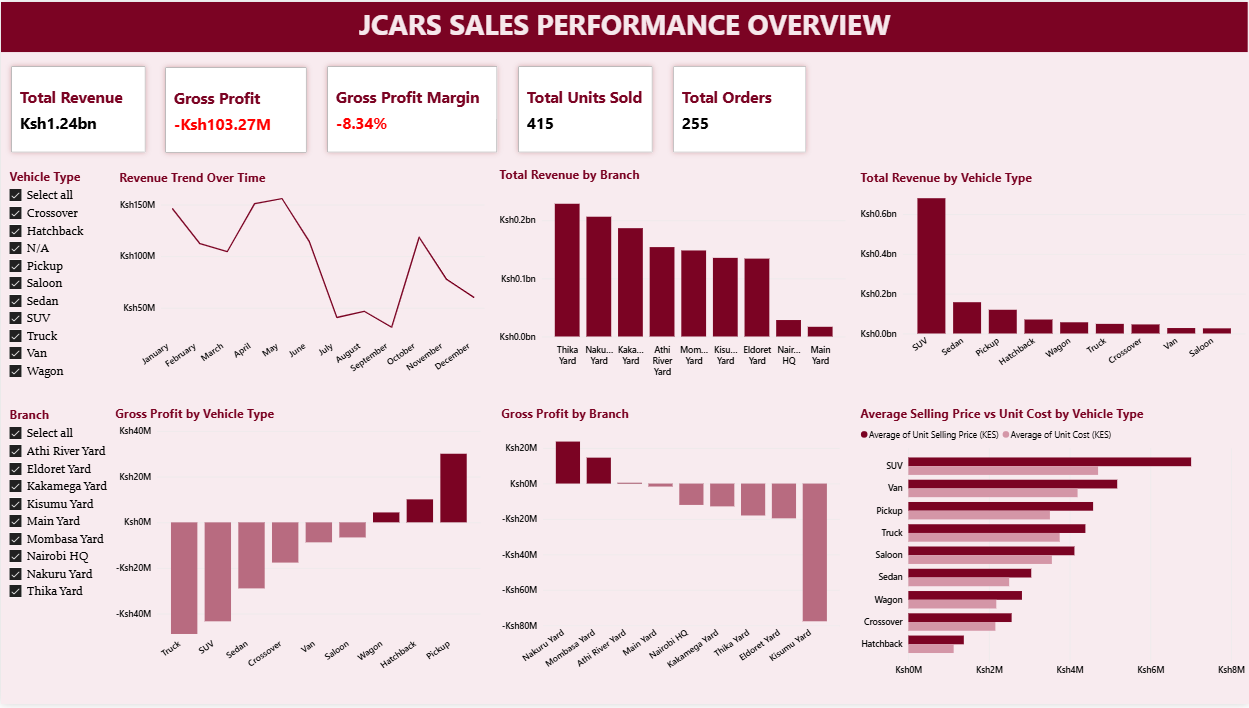

The page's visual inventory and layout, read from the dashboard file:
{"tool":"powerbi","page":{"name":"Dashboard","canvas":[1920,1080],"ordinal":0},"visuals":[{"type":"cardVisual","fields":{"Data":["Jcars_data_working.Total Revenue"]},"box":[-0.8,83.1,238.5,164.6],"z":0},{"type":"cardVisual","fields":{"Data":["Jcars_data_working.Total Units Sold"]},"box":[780,83.1,238.5,164.6],"z":1000},{"type":"cardVisual","fields":{"Data":["Jcars_data_working.Gross Profit"]},"box":[236.9,84.6,249.2,163.1],"z":2000},{"type":"cardVisual","fields":{"Data":["Jcars_data_working.Gross Profit Margin"]},"box":[486.2,83.1,293.8,164.6],"z":3000},{"type":"cardVisual","fields":{"Data":["Jcars_data_working.Total Orders"]},"box":[1018.5,83.1,236.9,164.6],"z":4000},{"type":"clusteredColumnChart","title":"Total Revenue by Branch","fields":{"Category":["Jcars_data_working.Branch"],"Y":["Sum(Jcars_data_working.Revenue Recorded (KES))"]},"box":[761.5,252.3,543.1,332.3],"z":5000},{"type":"clusteredColumnChart","title":"Total Revenue by Vehicle Type","fields":{"Category":["Jcars_data_working.Vehicle Type"],"Y":["Sum(Jcars_data_working.Revenue Recorded (KES))"]},"box":[1316.9,256.9,603.1,323.1],"z":6000},{"type":"lineChart","title":"Revenue Trend Over Time","fields":{"Category":["DimDate.Month Name"],"Y":["Jcars_data_working.Total Revenue"]},"box":[176.9,256.9,572.3,332.3],"z":7000},{"type":"clusteredColumnChart","title":"Gross Profit by Branch","fields":{"Category":["Jcars_data_working.Branch"],"Y":["Jcars_data_working.Gross Profit"]},"box":[764.6,620,530.8,426.2],"z":8000},{"type":"columnChart","title":"Gross Profit by Vehicle Type","fields":{"Category":["Jcars_data_working.Vehicle Type"],"Y":["Jcars_data_working.Gross Profit"]},"box":[170.8,620,572.3,426.2],"z":9000},{"type":"clusteredBarChart","title":"Average Selling Price vs Unit Cost by Vehicle Type","fields":{"Category":["Jcars_data_working.Vehicle Type"],"Y":["Avg(Jcars_data_working.Unit Selling Price (KES))","Avg(Jcars_data_working.Unit Cost (KES))"]},"box":[1316.9,620,601.5,426.2],"z":10000},{"type":"slicer","fields":{"Values":["Jcars_data_working.Branch"]},"box":[0,616.9,176.9,413.8],"z":11000},{"type":"slicer","fields":{"Values":["Jcars_data_working.Vehicle Type"]},"box":[0,250.8,176.9,335.4],"z":12000},{"type":"textbox","box":[0,0,1918.5,76.9],"z":14000}]}

Visuals, with their boxes in screenshot pixels (x1, y1, x2, y2), scaled from the page's 1920x1080 canvas onto the 1249x708 screenshot:
cardVisual - Jcars_data_working.Total Revenue: l=0, t=54, r=155, b=162
cardVisual - Jcars_data_working.Total Units Sold: l=507, t=54, r=663, b=162
cardVisual - Jcars_data_working.Gross Profit: l=154, t=55, r=316, b=162
cardVisual - Jcars_data_working.Gross Profit Margin: l=316, t=54, r=507, b=162
cardVisual - Jcars_data_working.Total Orders: l=663, t=54, r=817, b=162
"Total Revenue by Branch" clusteredColumnChart: l=495, t=165, r=849, b=383
"Total Revenue by Vehicle Type" clusteredColumnChart: l=857, t=168, r=1248, b=380
"Revenue Trend Over Time" lineChart: l=115, t=168, r=487, b=386
"Gross Profit by Branch" clusteredColumnChart: l=497, t=406, r=843, b=686
"Gross Profit by Vehicle Type" columnChart: l=111, t=406, r=483, b=686
"Average Selling Price vs Unit Cost by Vehicle Type" clusteredBarChart: l=857, t=406, r=1248, b=686
slicer - Jcars_data_working.Branch: l=0, t=404, r=115, b=676
slicer - Jcars_data_working.Vehicle Type: l=0, t=164, r=115, b=384
textbox: l=0, t=0, r=1248, b=50
